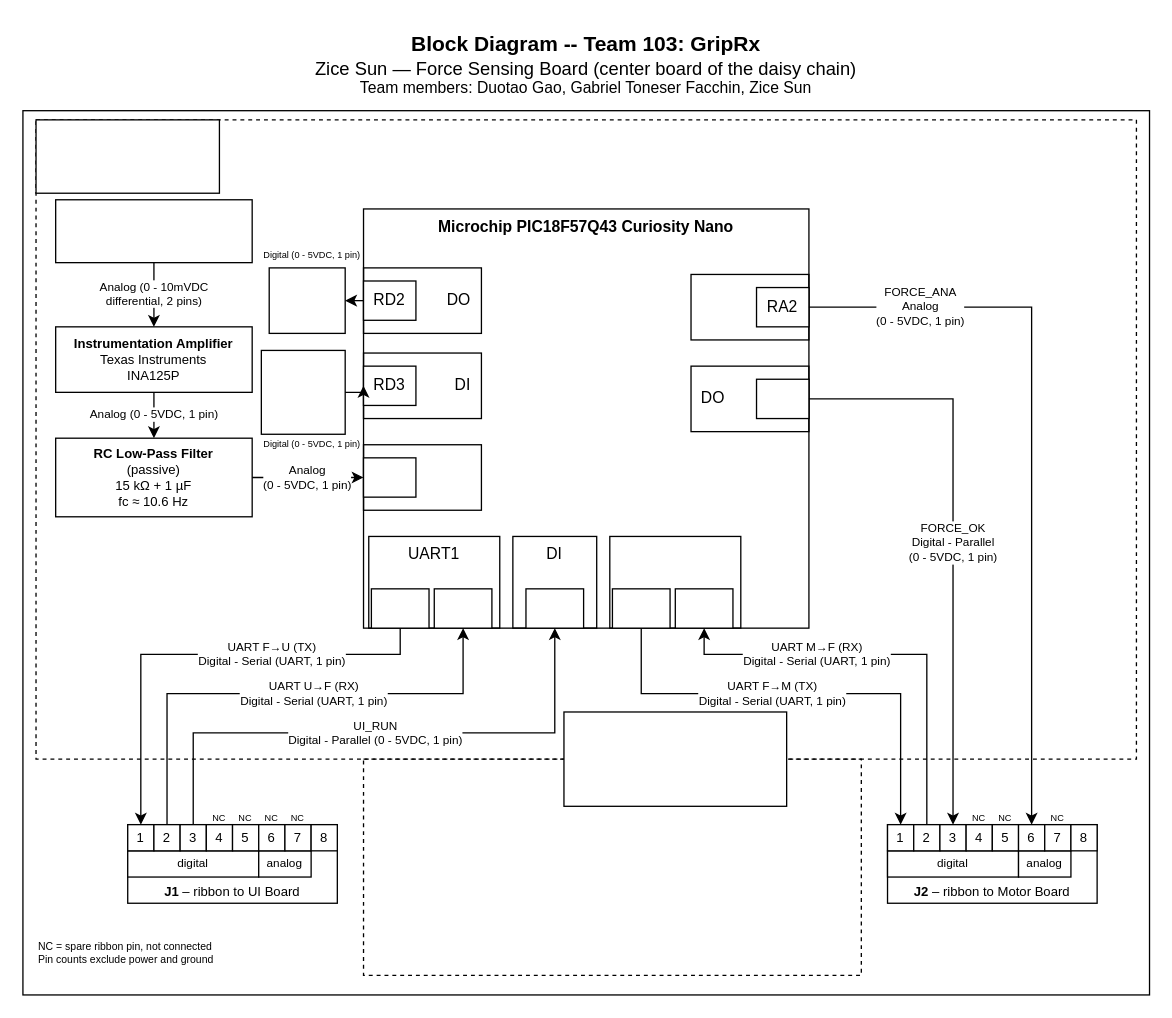
Image size: 1172x1018. Some labels were removed from this diagram. Here are the shapes that lost their labels. From the top down, the box of each, then its label:
(35, 119, 219, 193): 5V Linear Regulator STMicroelectronics L7805ABV-DG
(54, 198, 252, 263): Load Cell (sensor) Phidgets 3135_0 (CZL635-50)
(268, 267, 345, 333): Debug LED Red LED + 1 kΩ
(690, 273, 809, 340): DAC
(260, 349, 345, 434): Debug Button Tactile switch 10 k pull-up + RC debounce
(755, 378, 809, 419): RD1
(362, 457, 416, 497): RA0
(362, 443, 481, 510): ADC
(608, 535, 741, 628): UART3
(370, 588, 429, 628): TX RC2
(433, 588, 492, 628): RX RC3
(525, 588, 584, 628): RD0
(611, 588, 670, 628): TX RA3
(674, 588, 733, 628): RX RA4
(563, 711, 787, 806): Power (+9V DC) Unregulated, 3 A max 9V 3A Wall Adapter BestCH (class-issued)
